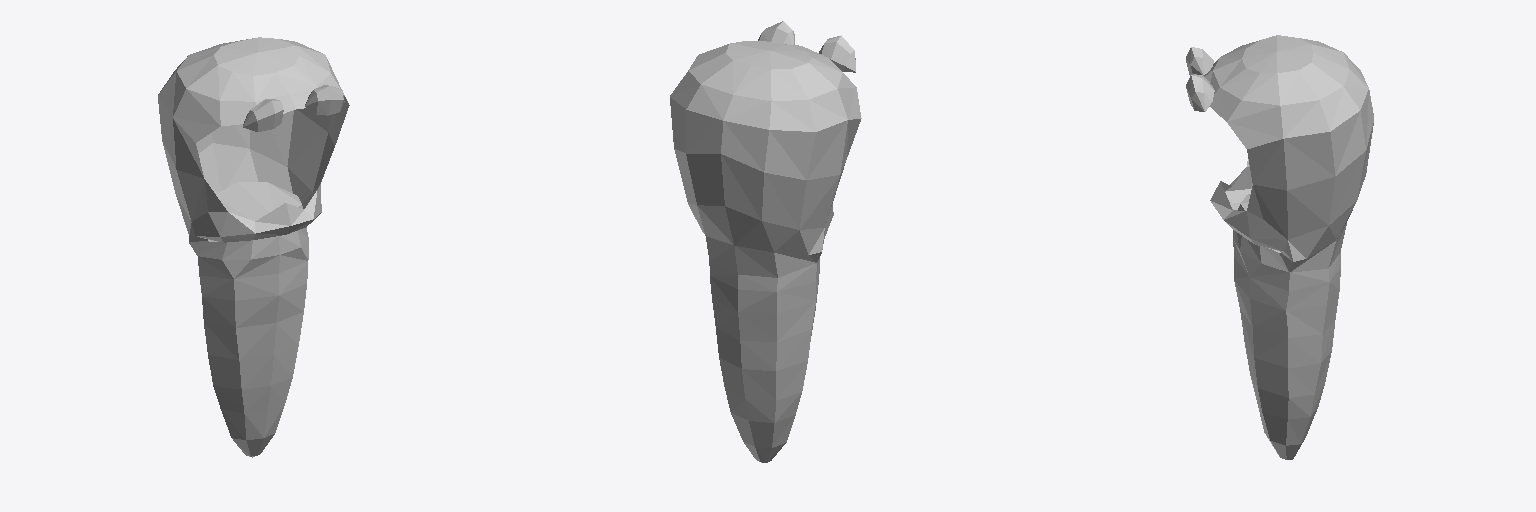
Rendered from Worm.obj.
3 views of the same model, side by side, from view 1: azimuth 30°, elevation 25°; view 2: azimuth 150°, elevation 25°; view 3: azimuth 270°, elevation 25° (orthographic).
Parts seen in each view (by area): view 1: Inst3D_RefRep.221_Ref; view 2: Inst3D_RefRep.221_Ref; view 3: Inst3D_RefRep.221_Ref.
Boxes of the visible parts, x1=… form: Inst3D_RefRep.221_Ref: x1=158, y1=37, x2=349, y2=457; Inst3D_RefRep.221_Ref: x1=670, y1=21, x2=861, y2=462; Inst3D_RefRep.221_Ref: x1=1186, y1=35, x2=1373, y2=459.
Bounding box in the file's own units: 1.75 × 4.18 × 1.75.